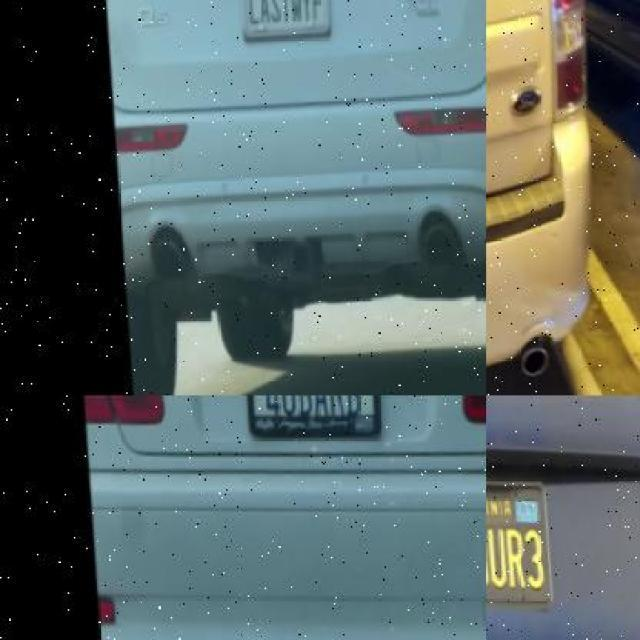LicensePlate: (486, 478, 569, 620), (234, 396, 376, 459), (487, 282, 536, 368), (228, 0, 325, 42)
